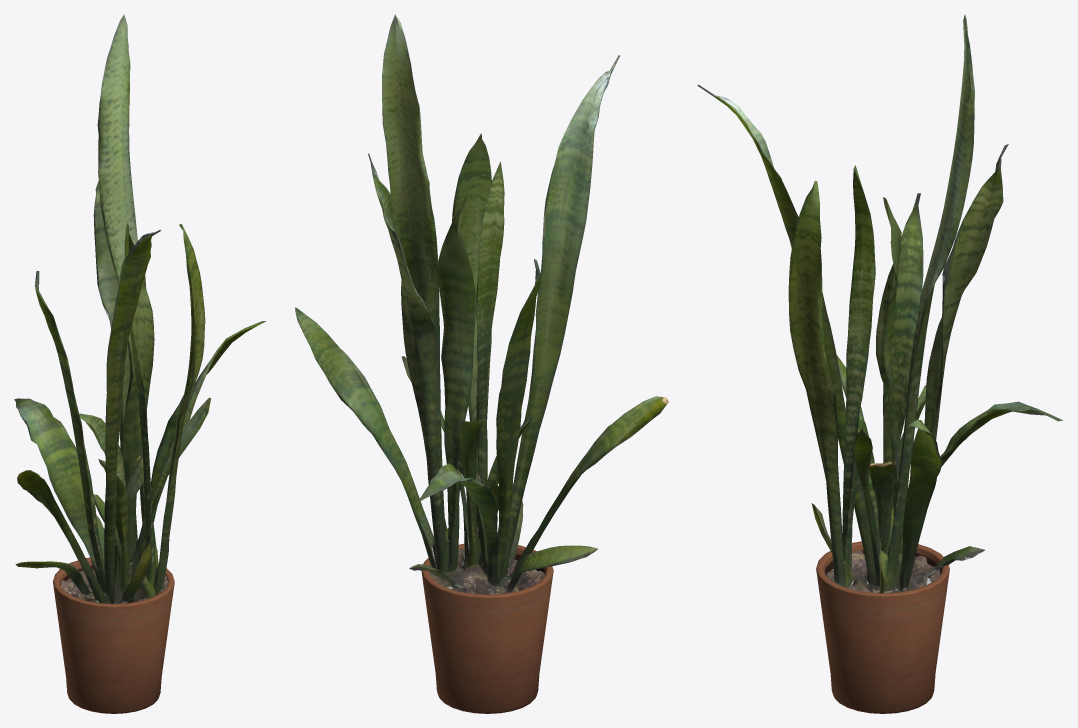
3 views of the same model, side by side, from view 1: azimuth 30°, elevation 25°; view 2: azimuth 150°, elevation 25°; view 3: azimuth 270°, elevation 25° (orthographic). The views are drawn at different scales.
Visible parts, largest first — view 1: flowerLP; view 2: flowerLP; view 3: flowerLP.
Part boxes in pixels (x1,y1,x2,y2): flowerLP: (14,14,265,713); flowerLP: (295,14,668,713); flowerLP: (697,14,1063,713).
Size of the model in its own units: 0.373 by 0.7705 by 0.3626.
1 material, 1 textured.
